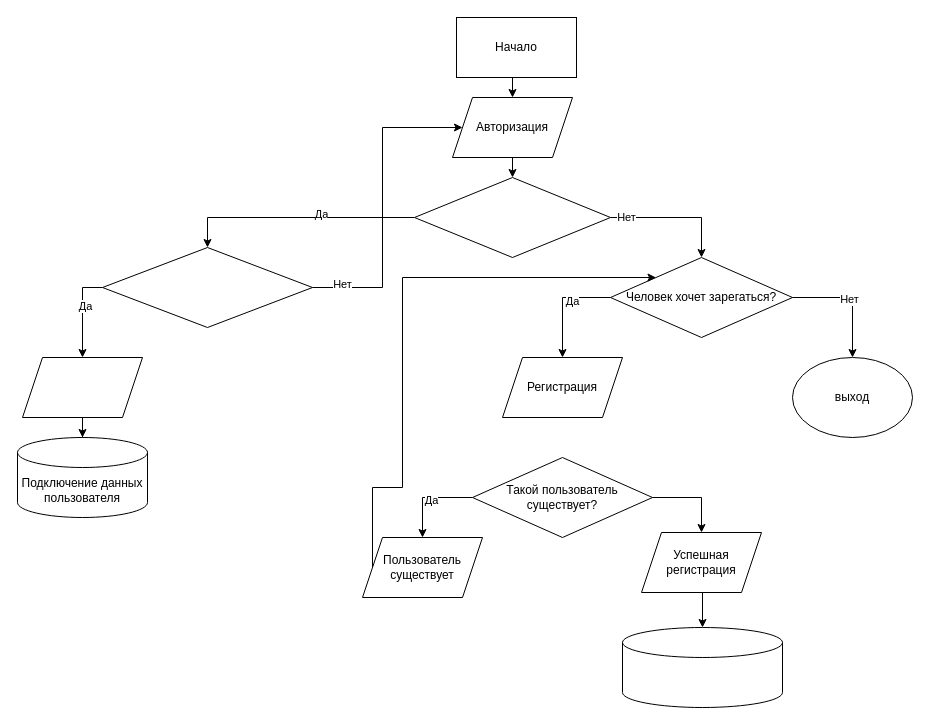
Some shapes in this 930 by 725 pixel diagram are drawn without their labels. The centre of each missing label's shape, as x and y in pixels:
"Вход в систему" belongs at [82,387].
"Логин и пароль совпадают?" belongs at [207,287].
"Пользователь существует?" belongs at [512,217].
"Сохранение пользователя" belongs at [702,667].
